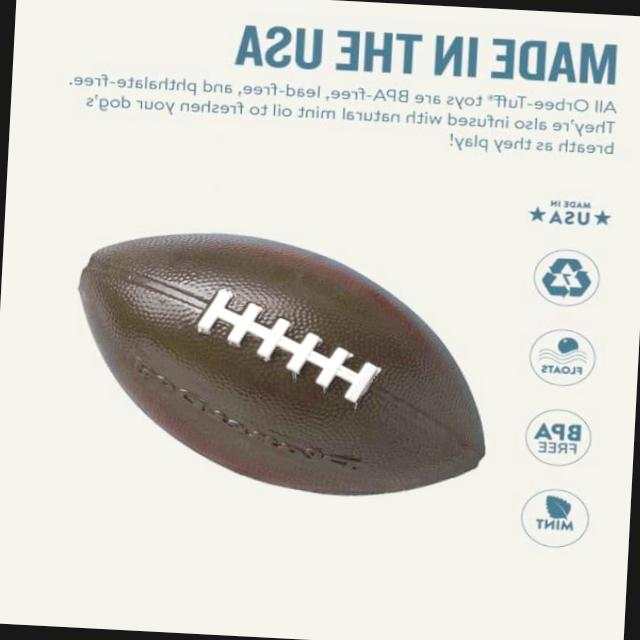ball: (24, 217, 514, 508)
